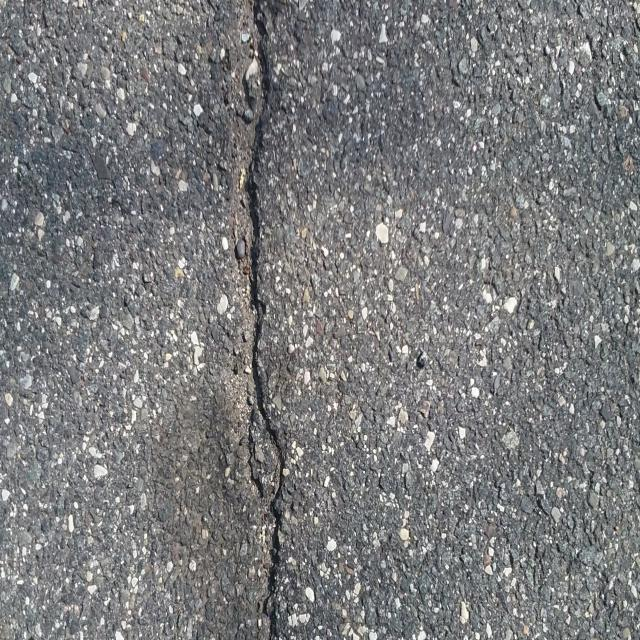Crack: (247, 0, 286, 640)
